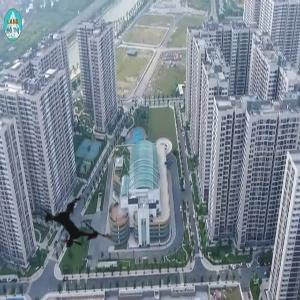drone: (15, 166, 135, 286)
